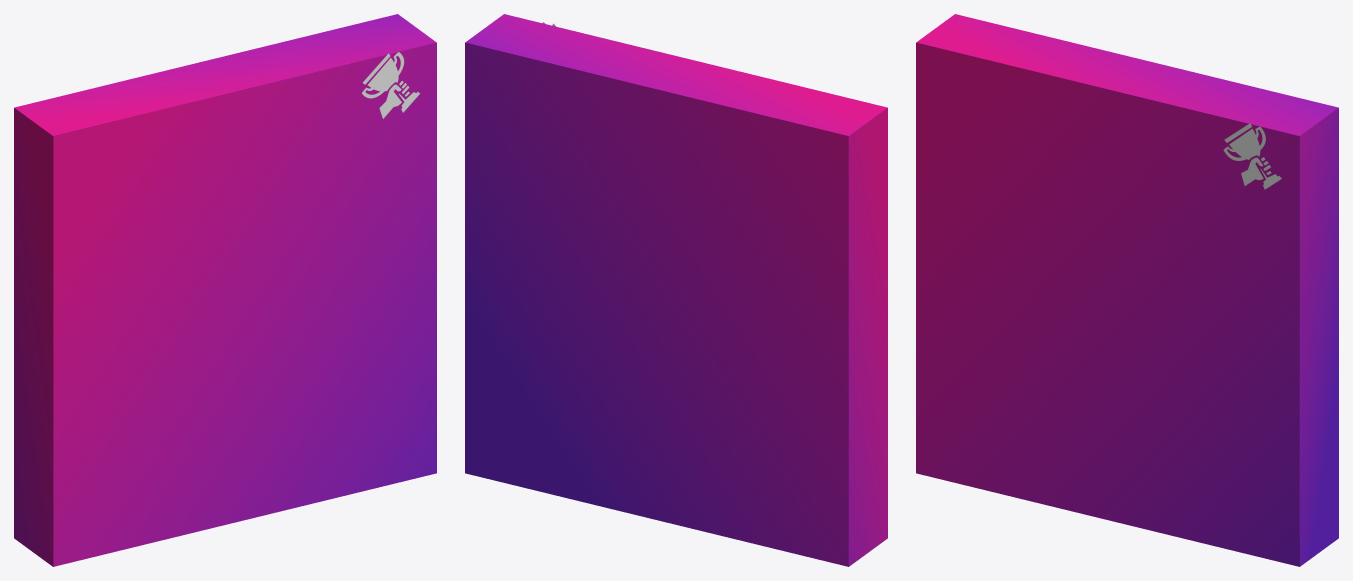
Rendered from leaderboard.glb.
3 views of the same model, side by side, from view 1: azimuth 30°, elevation 25°; view 2: azimuth 150°, elevation 25°; view 3: azimuth 330°, elevation 25° (orthographic).
Parts seen in each view (by area): view 1: board, Untitled-1; view 2: board; view 3: board, Untitled-1.
Part boxes in pixels (x1,y1,x2,y2): board: (14,14,436,566); Untitled-1: (361,52,420,118); board: (465,14,887,566); board: (916,14,1338,566); Untitled-1: (1223,123,1281,189).
Size of the model in its own units: 0.4927 by 0.531 by 0.0883.
2 materials, 2 textured.
